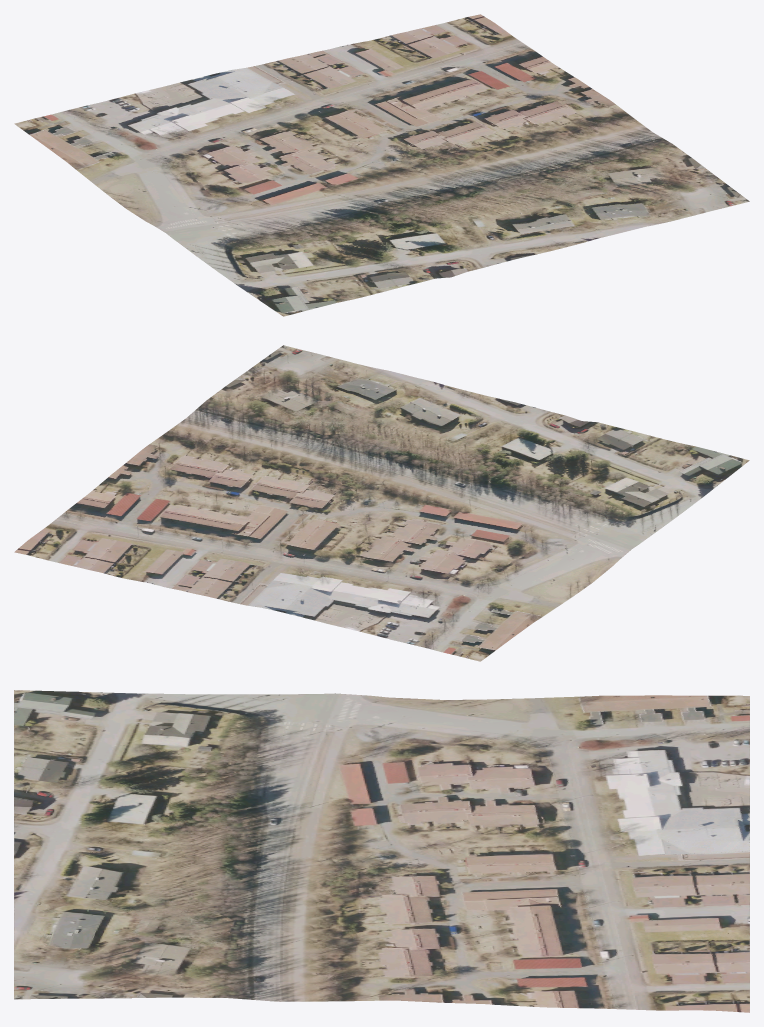
The model's file is CM_Terrain_24490049_6818156.fbx.
3 renders of one model, top to bottom at view 1: azimuth 30°, elevation 25°; view 2: azimuth 150°, elevation 25°; view 3: azimuth 270°, elevation 25°, orthographic. The views are drawn at different scales.
Parts seen in each view (by area): view 1: CM_Terrain_24490049_6818156_LOD0; view 2: CM_Terrain_24490049_6818156_LOD0; view 3: CM_Terrain_24490049_6818156_LOD0.
Boxes of the visible parts, bbox=[...] form: CM_Terrain_24490049_6818156_LOD0: bbox=[14, 14, 749, 316]; CM_Terrain_24490049_6818156_LOD0: bbox=[14, 345, 749, 661]; CM_Terrain_24490049_6818156_LOD0: bbox=[14, 690, 749, 1012].
Size of what is drawn, in the model's own units: 205 by 4.67 by 205.
